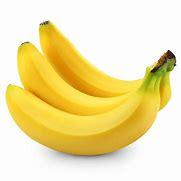banana: (6, 18, 180, 157)
